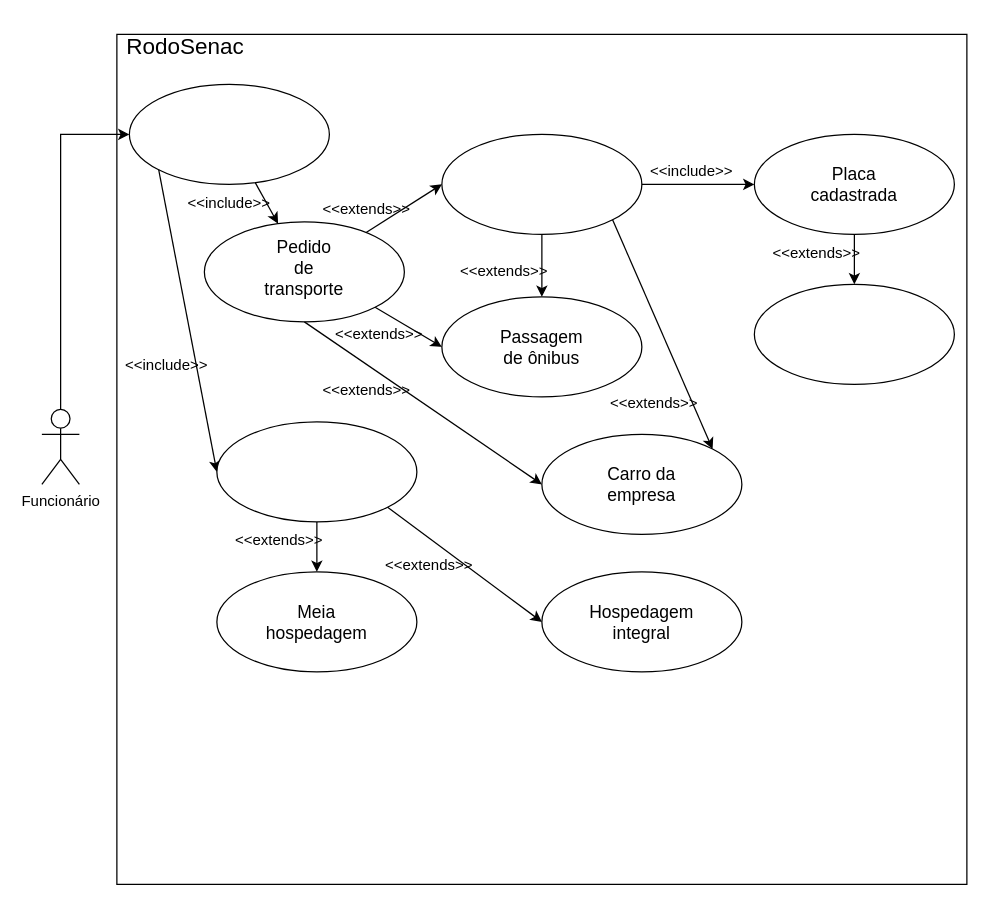
This 989x906 diagram has some shape labels left out. The box of each missing label's shape, as (x1, y1, x2, y2) in pixels:
Gerente: (441, 133, 642, 234)
Km rodado: (753, 283, 954, 384)
Pedido de deslocamento: (128, 83, 329, 184)
Pedido de hospedagem: (216, 421, 417, 522)
